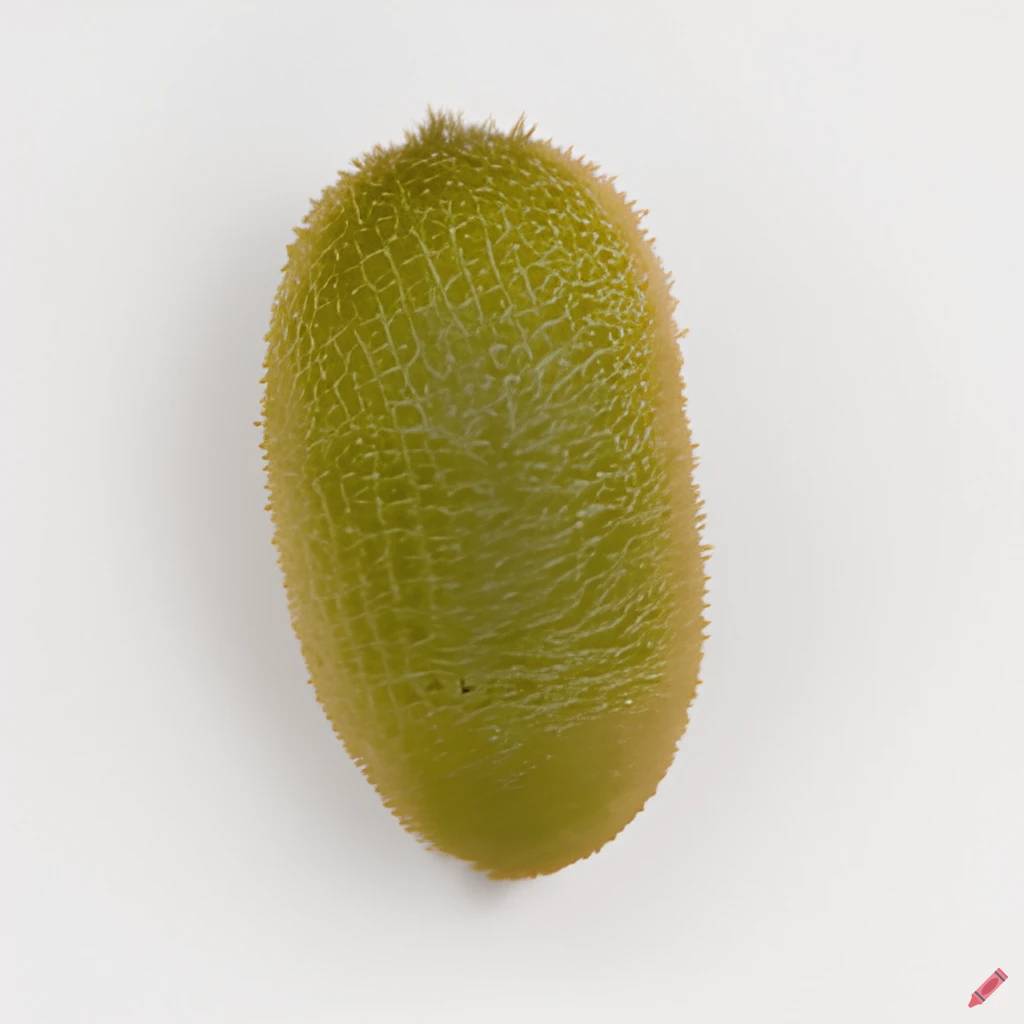Kiwi: (230, 96, 716, 890)
